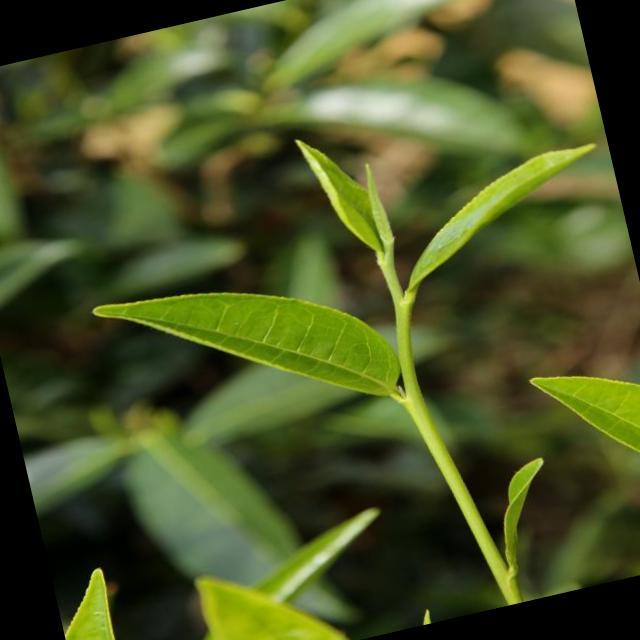Stem: (397, 303, 410, 330)
